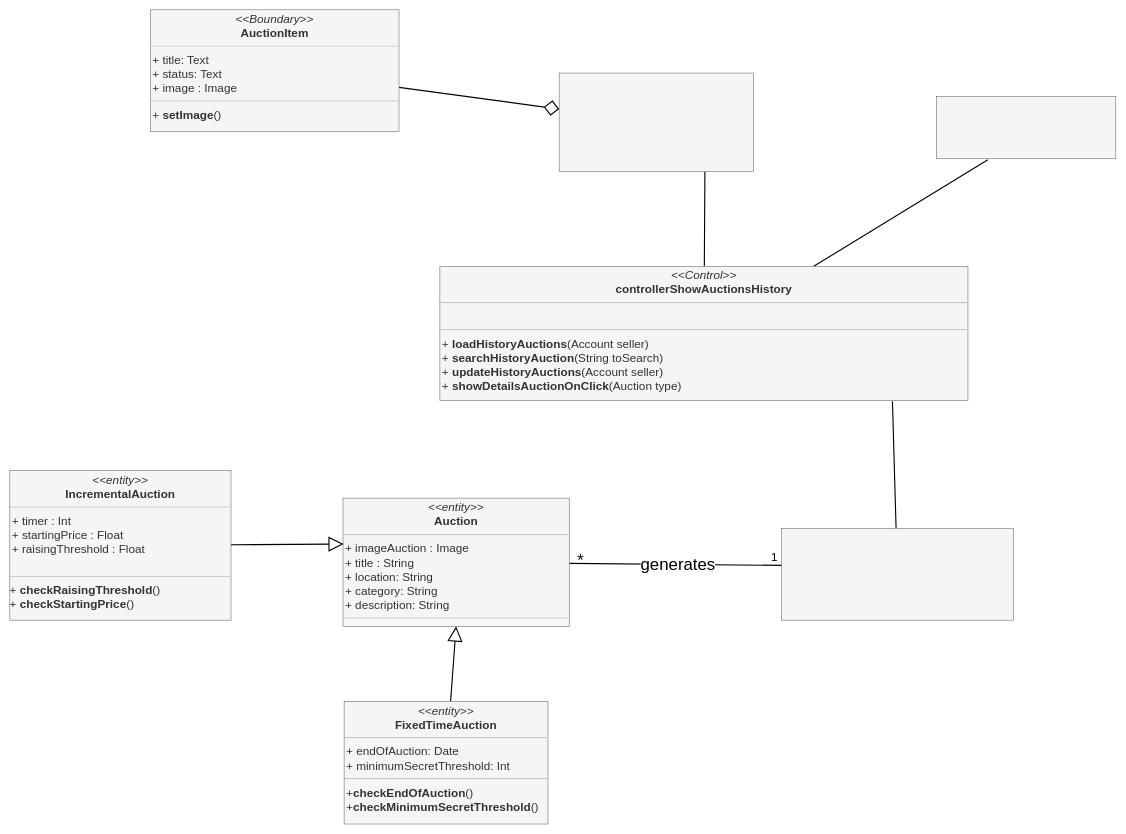
Some shapes in this 1126 by 834 pixel diagram are drawn without their labels. The centre of each missing label's shape, as x and y in pixels:
"<<Boundary>> AuctionDetails" goes at [1026,127].
"<<Boundary>> MyAuctions + searchText : TextField + checkSearchText ()" goes at [656,122].
"<<Entity>> Seller + getAllAuctions ()" goes at [897,574].
